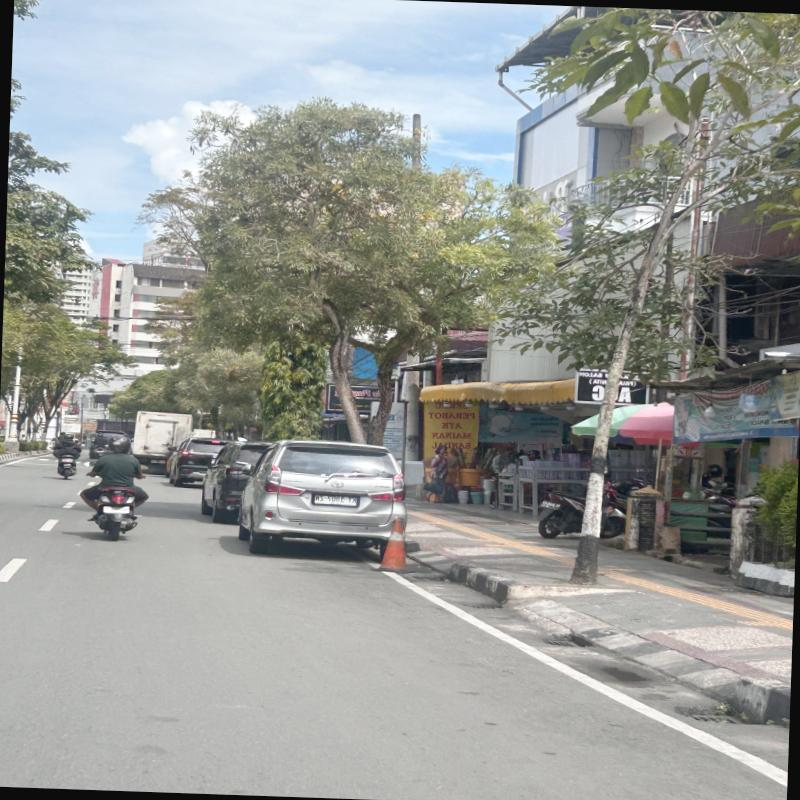license plate on a car: (311, 493, 359, 507), (151, 460, 166, 463)
